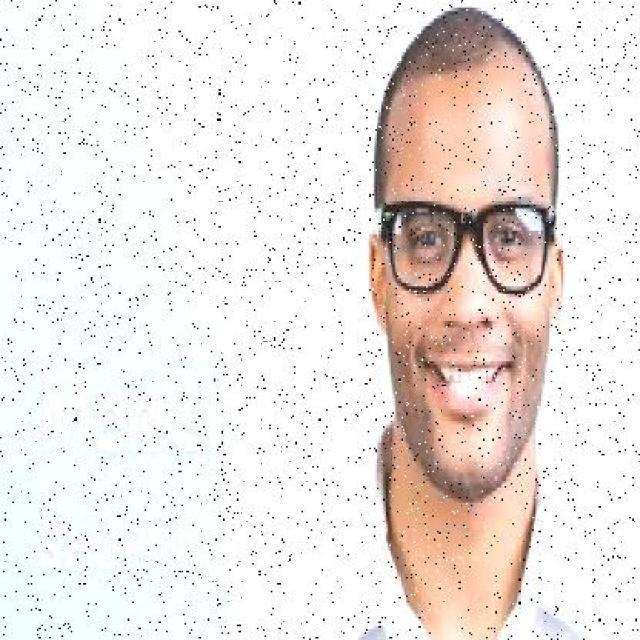mask: (374, 182, 554, 306)
